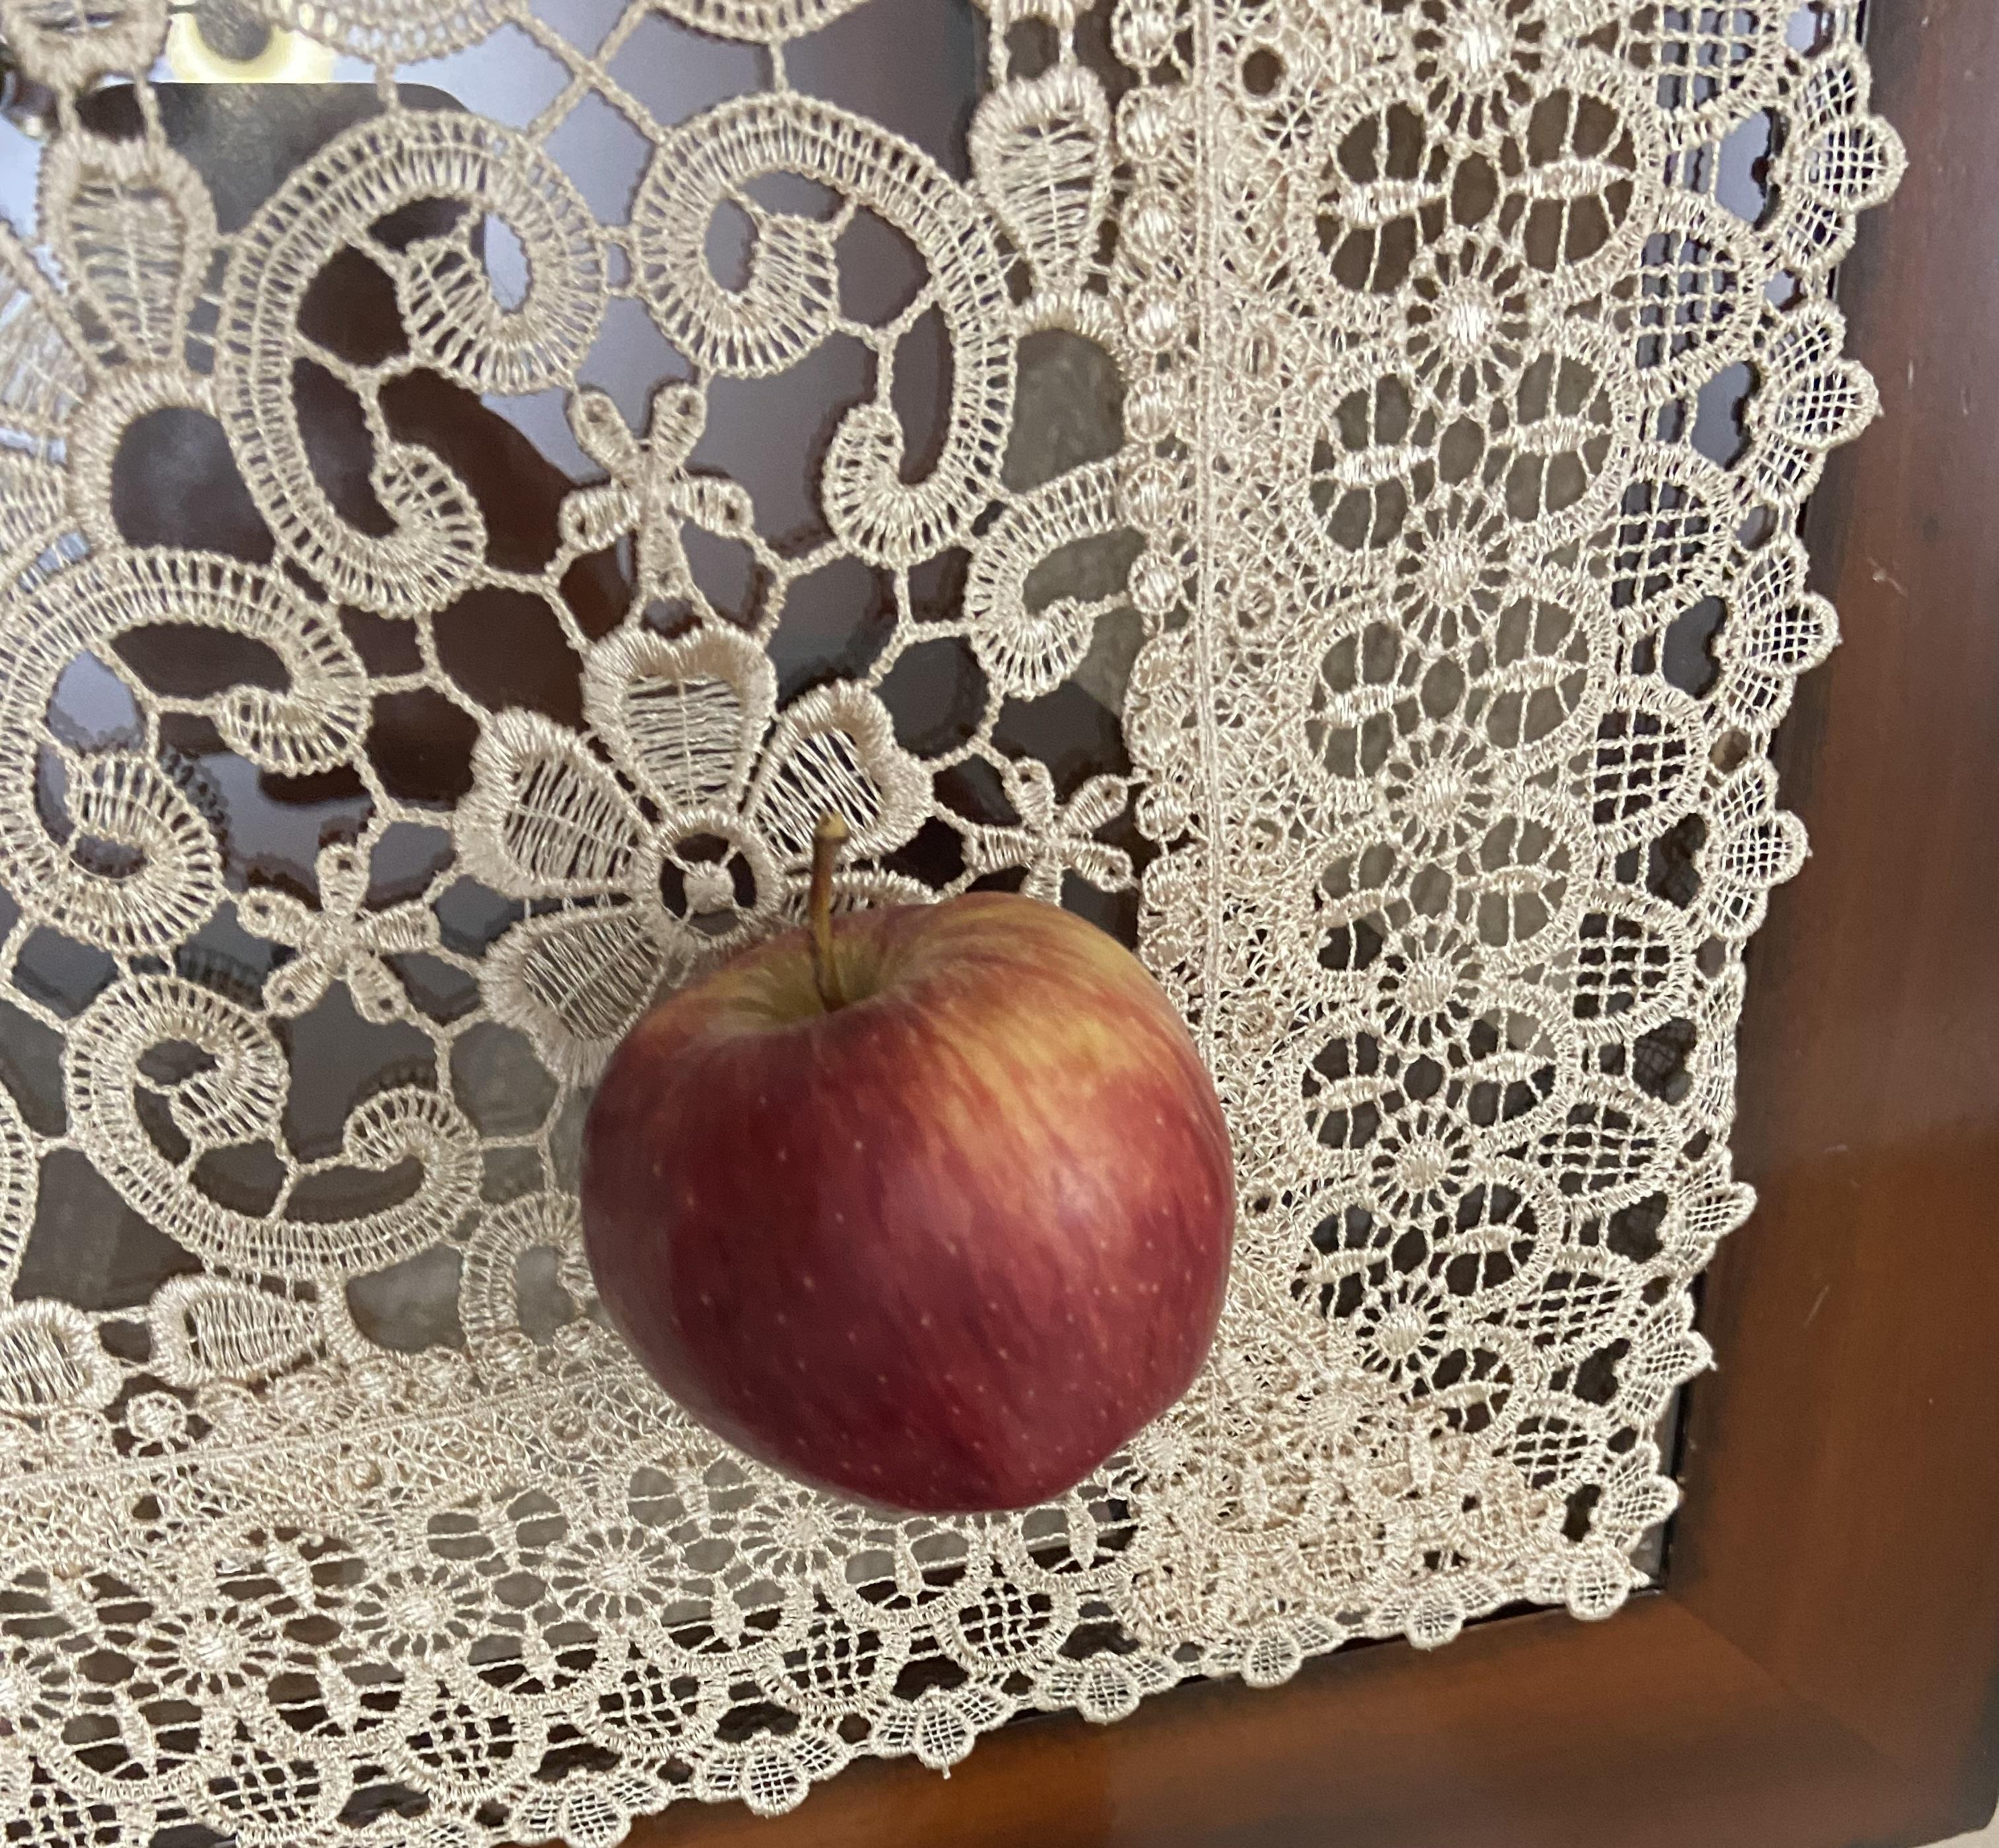Apple: (573, 817, 1252, 1524)
